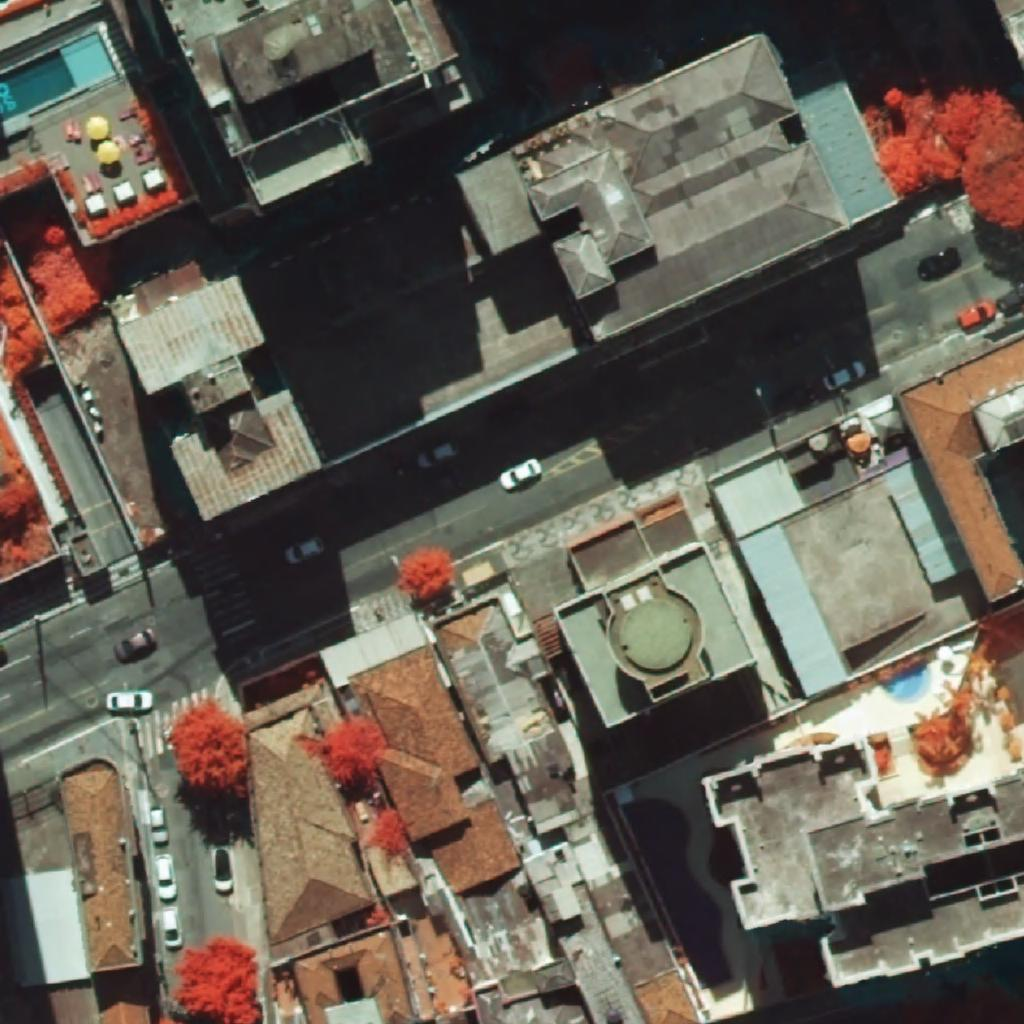pool: (0, 32, 117, 122), (882, 665, 928, 700)
